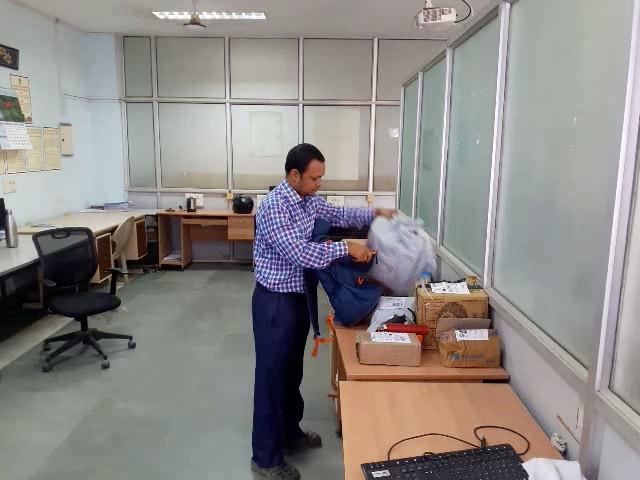shoplifting: (232, 198, 505, 364)
